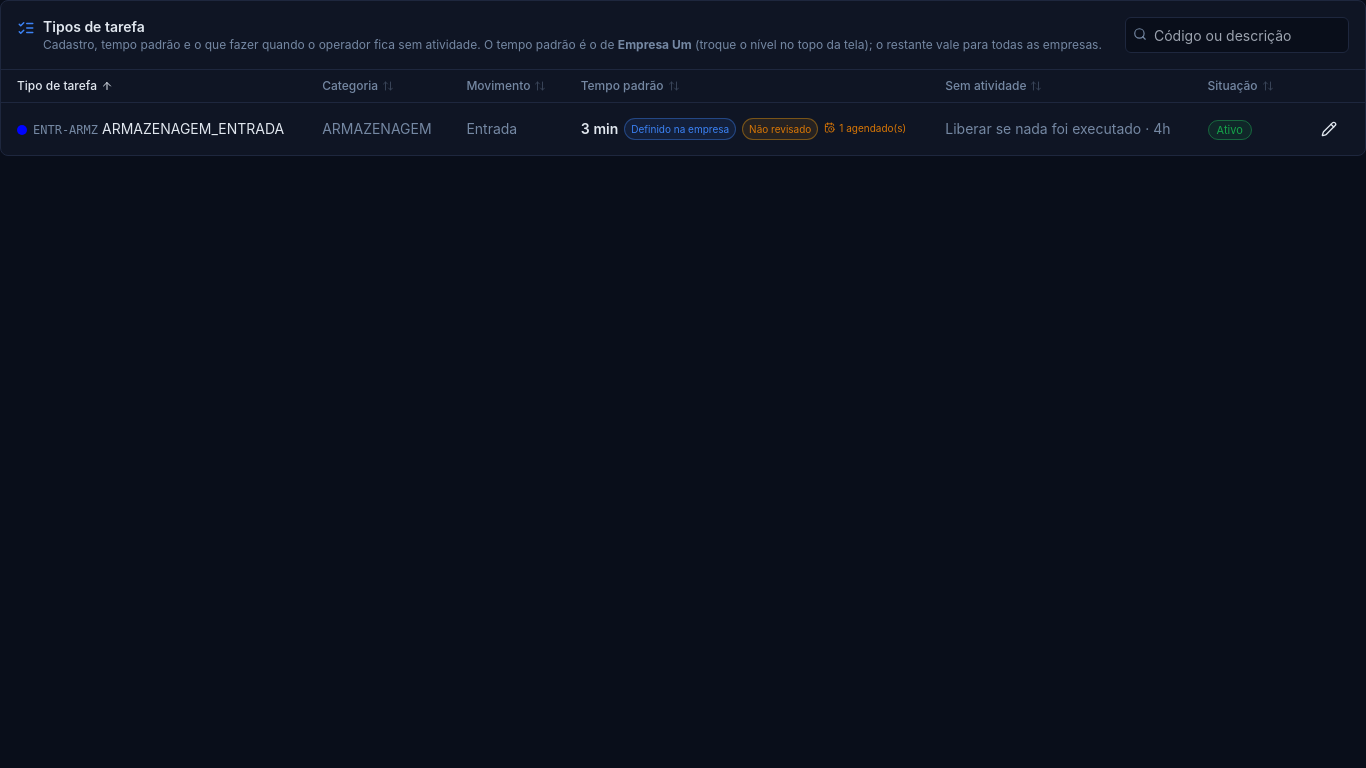
Test: Fase 10.11 · tipo de tarefa e tempo padrão numa tela só › só o tempo mudou: envia o tempo do nível em tela e não mexe no cadastro
Later steps or results of the test are not shown.
Click the button named "Editar ENTR-ARMZ". click: {"x": 1329, "y": 129}
box: [1309, 111, 1349, 147]
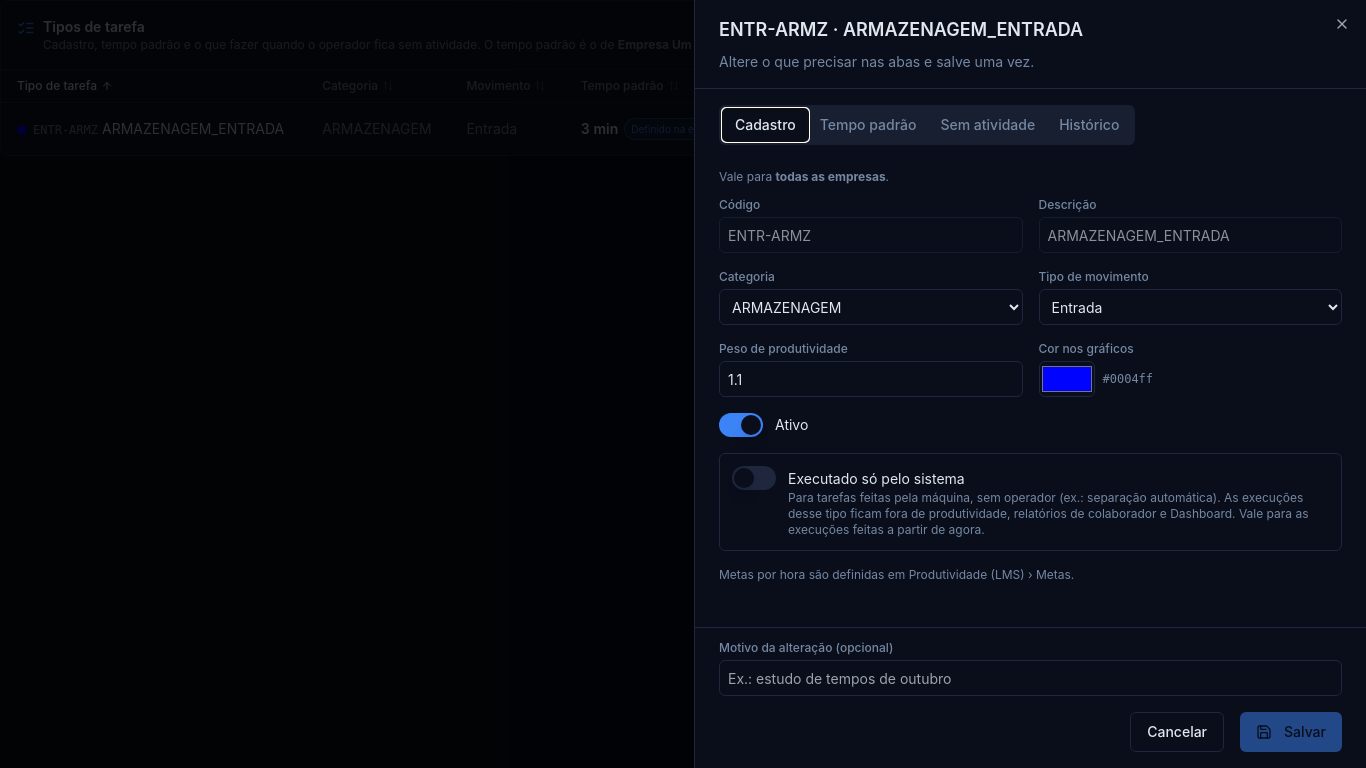
Press the mouse on the tab "Tempo padrão" at {"x": 868, "y": 125}, box [808, 109, 928, 141]
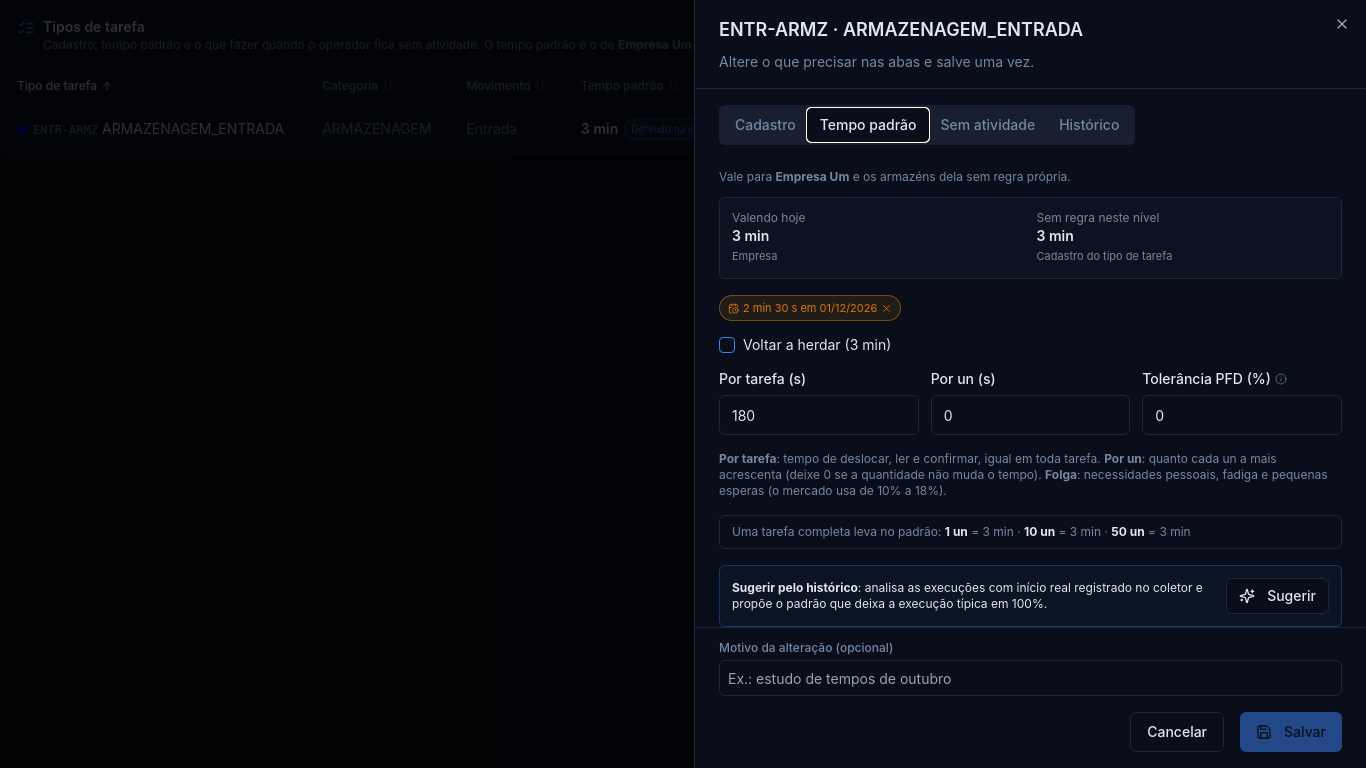
Click the tab "Tempo padrão". click: {"x": 868, "y": 125}
box: [808, 109, 928, 141]
Replace the text in the field labelled "Por tarefa (s)" with "30". click: {"x": 819, "y": 415}
box: [719, 395, 919, 435]
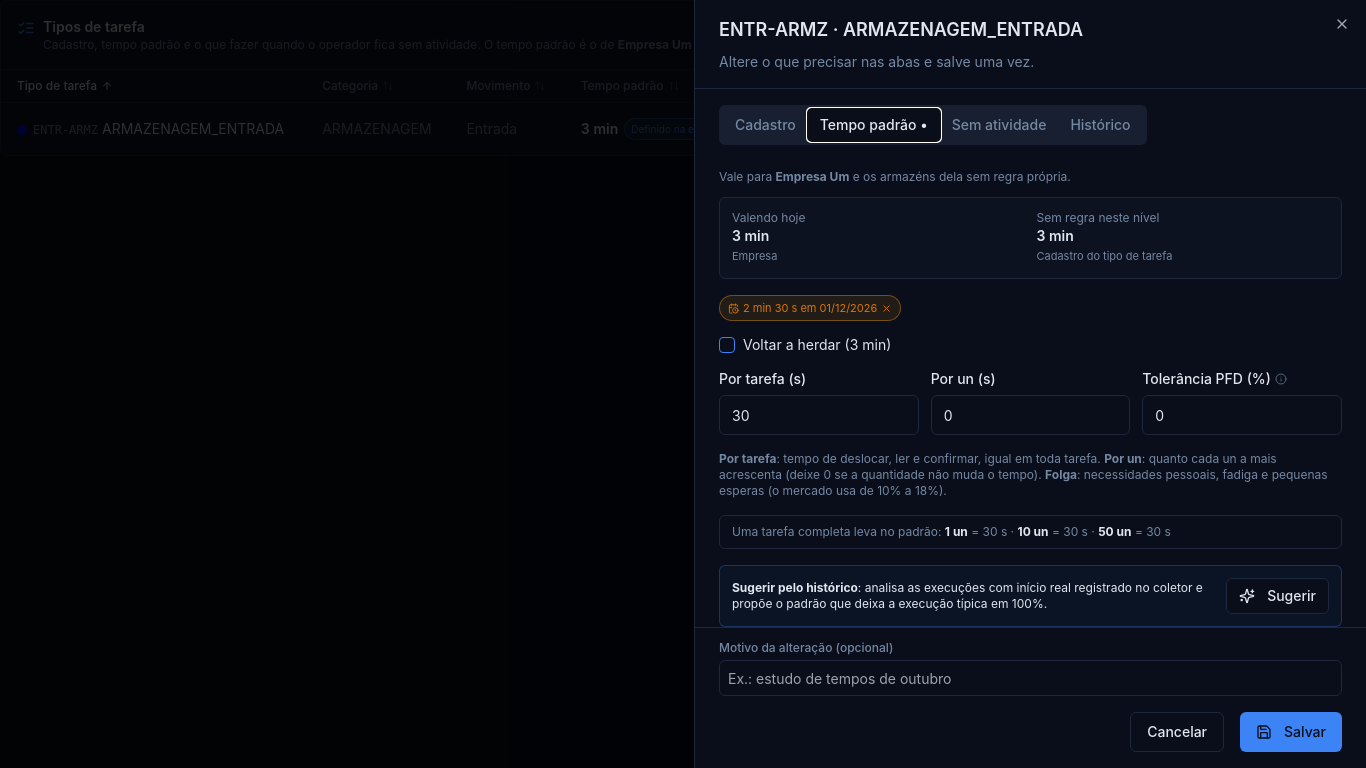
Replace the text in the field labelled "Por un (s)" with "3". click: {"x": 1031, "y": 415}
box: [931, 395, 1130, 435]
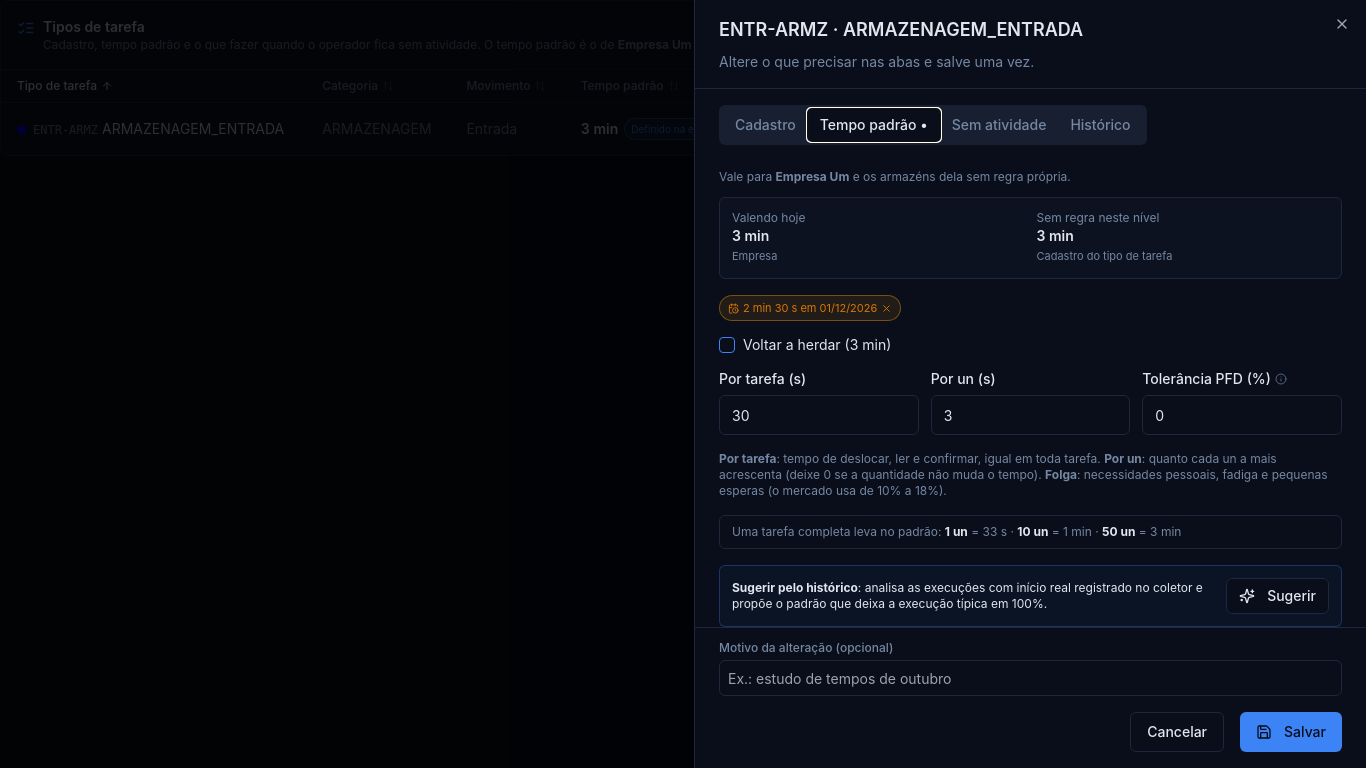
Replace the text in the field labelled "Tolerância PFD (%)" with "10". click: {"x": 1242, "y": 415}
box: [1142, 395, 1342, 435]
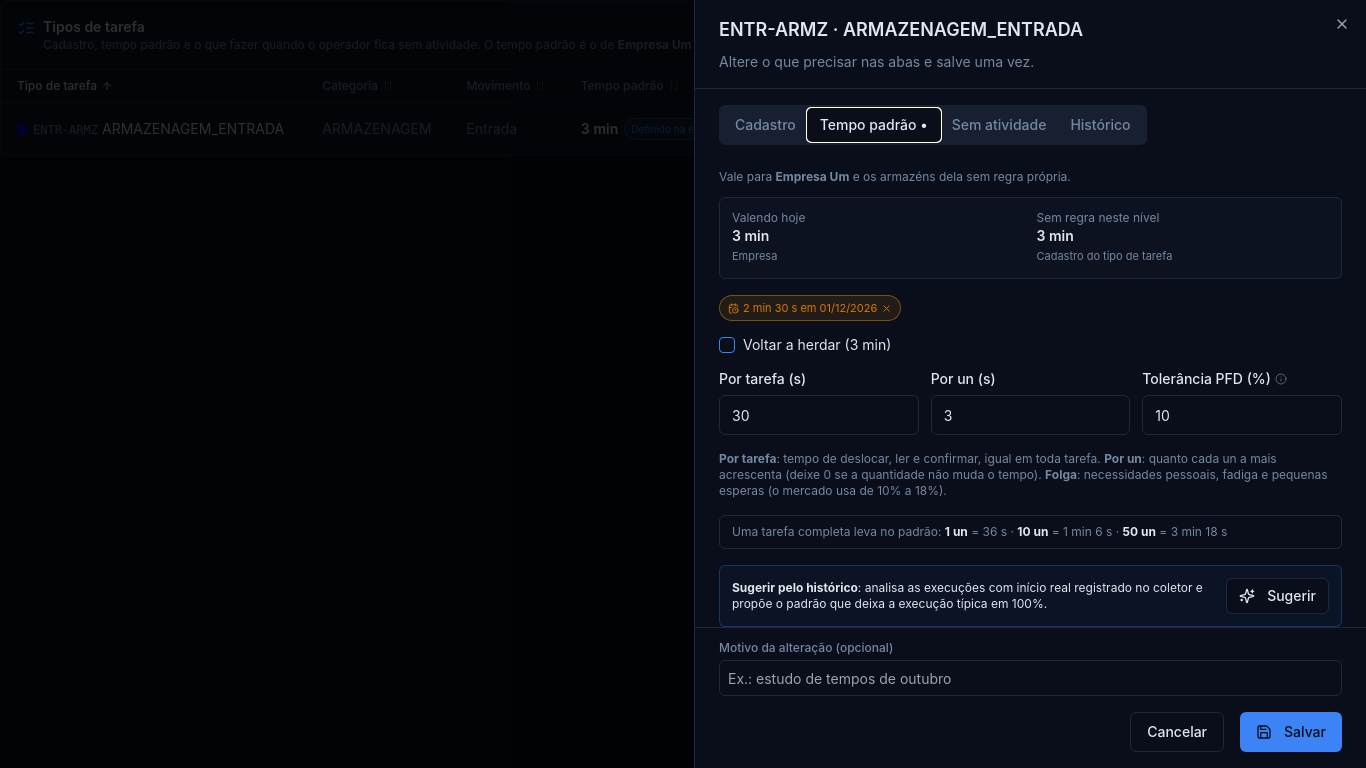
Expected: the element with test id "lms-padrao-previa" shows "10 un = 1 min 6 s", [719, 515, 1342, 549]
